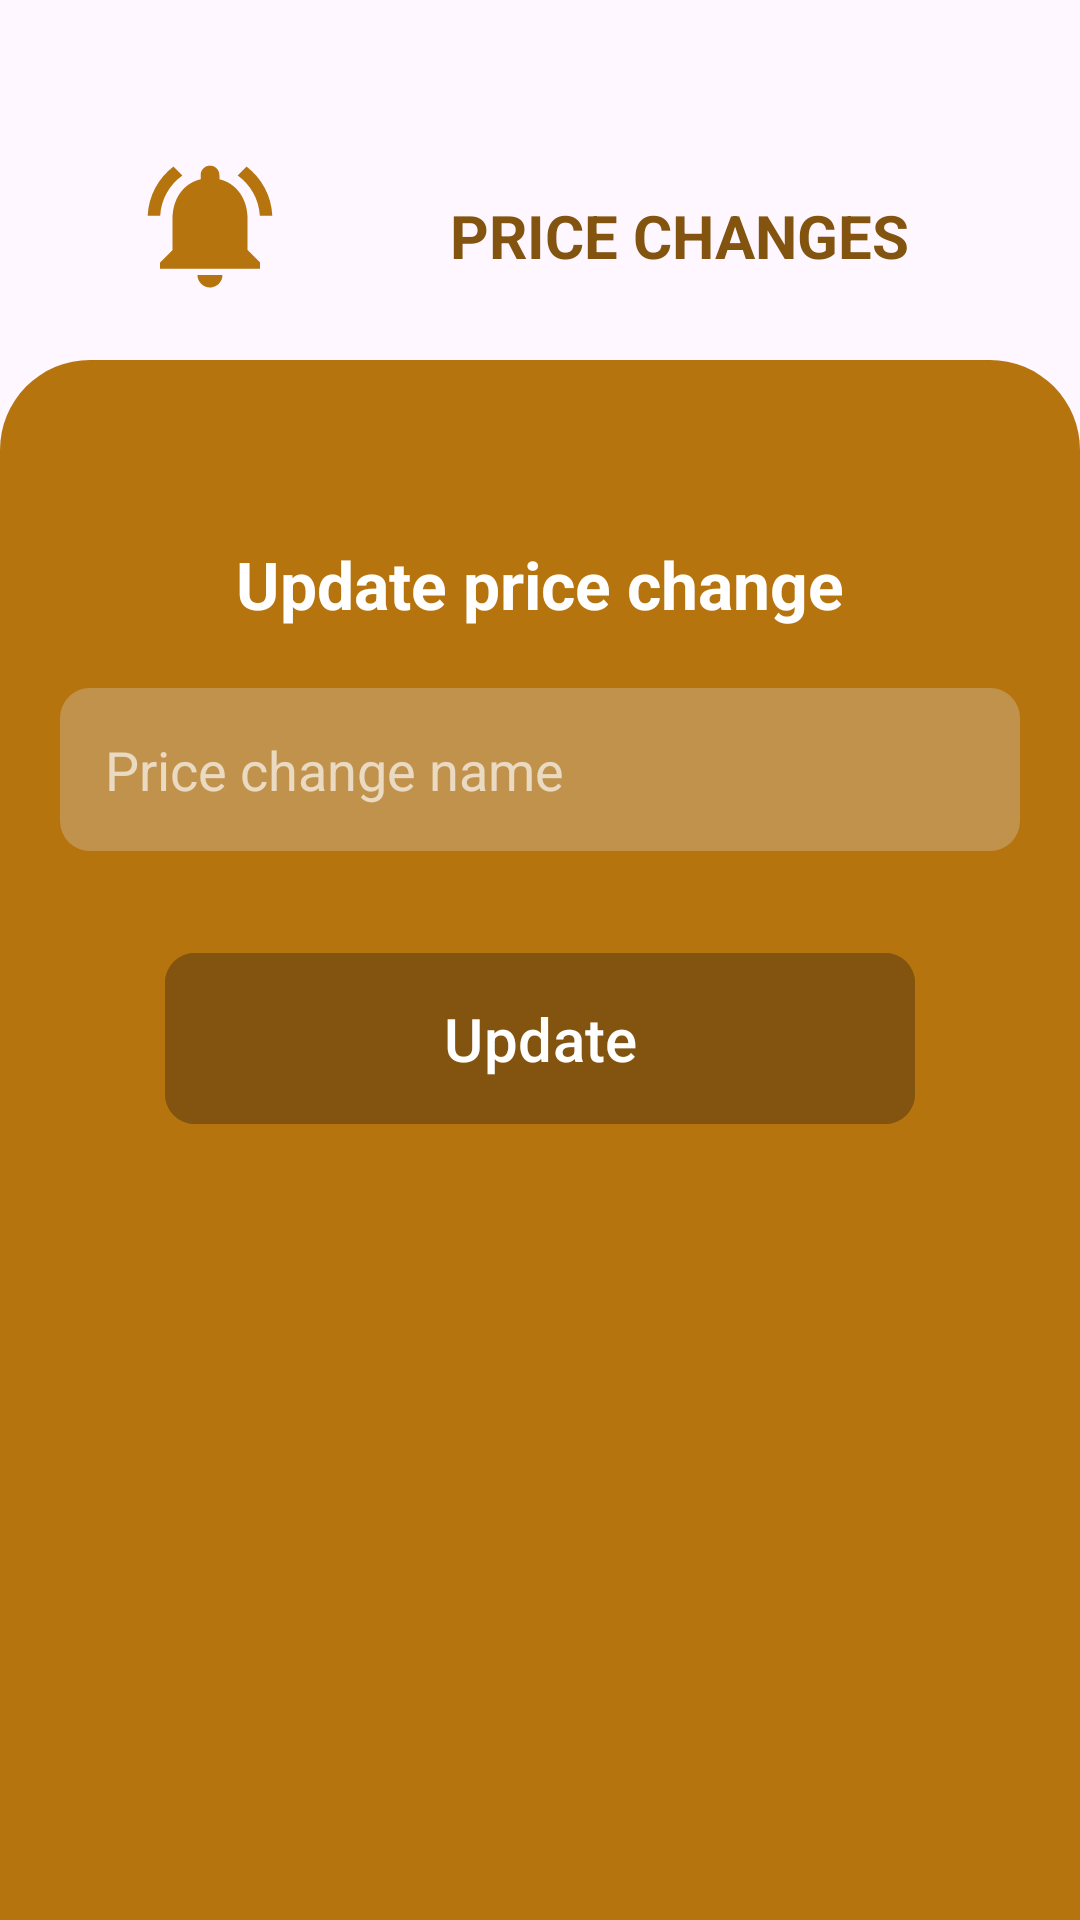

Screen size 1080w x 1920h. Icon name, then its center in pixels as point (x, y):
notifications: point (210, 226)
